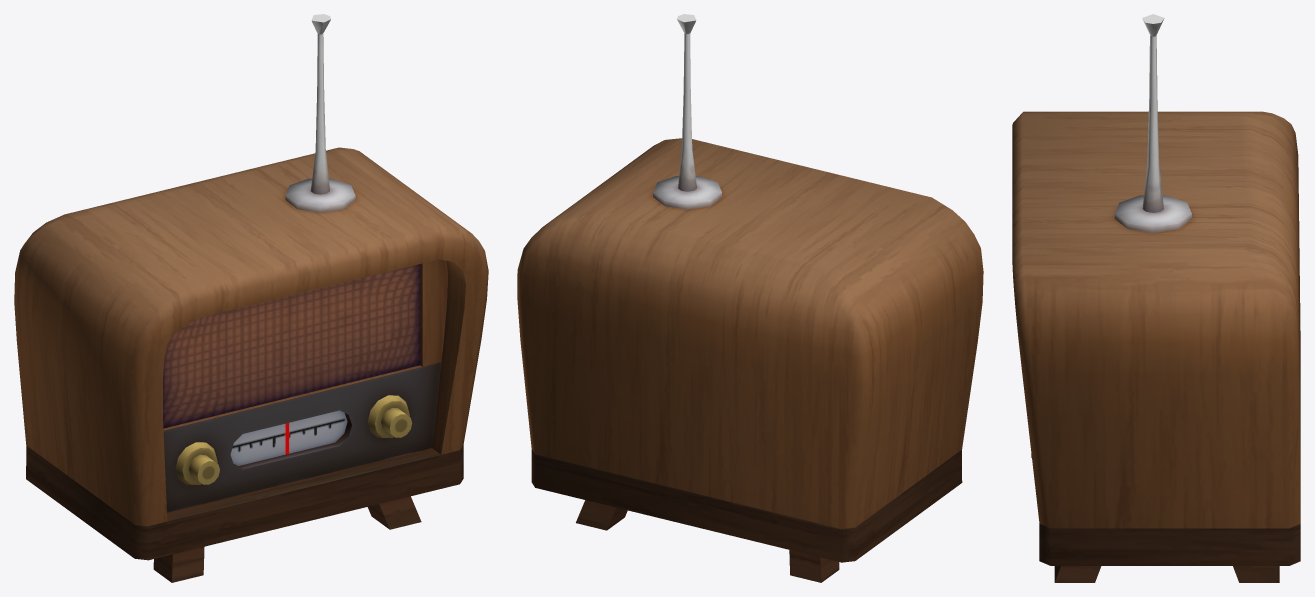
Rendered from RadioOld01.FBX.
3 views of the same model, side by side, from view 1: azimuth 30°, elevation 25°; view 2: azimuth 150°, elevation 25°; view 3: azimuth 270°, elevation 25° (orthographic). The views are drawn at different scales.
Parts seen in each view (by area): view 1: RadioOld01; view 2: RadioOld01; view 3: RadioOld01.
Part boxes in pixels (left/top/right/bottom): RadioOld01: left=14, top=14, right=488, bottom=582; RadioOld01: left=517, top=14, right=983, bottom=582; RadioOld01: left=1012, top=14, right=1300, bottom=582.
Size of what is drawn, in the model's own units: 0.4506 by 0.5836 by 0.286.
